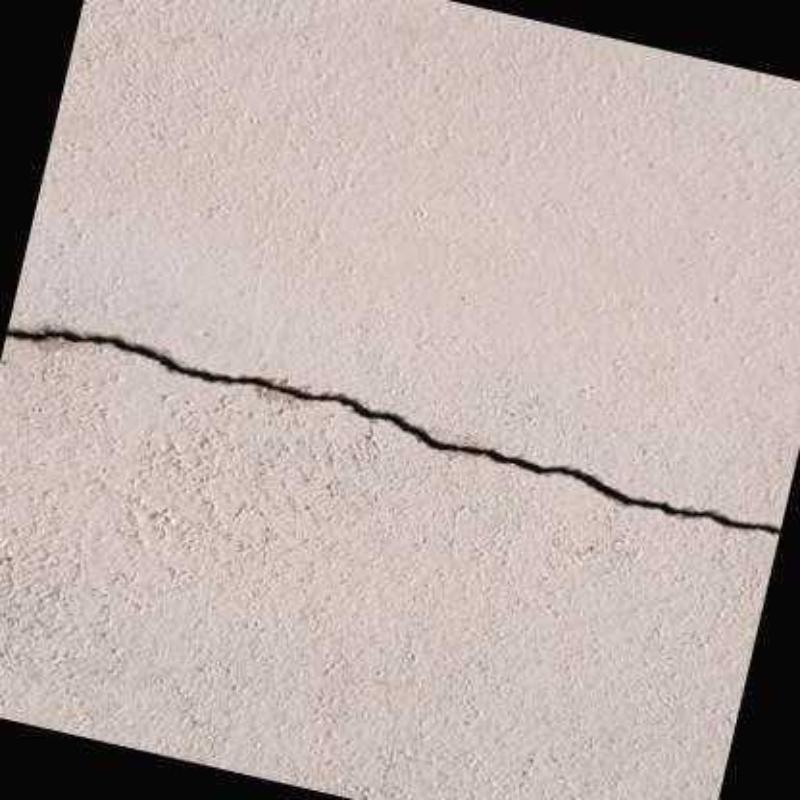crack: (6, 327, 783, 537)
